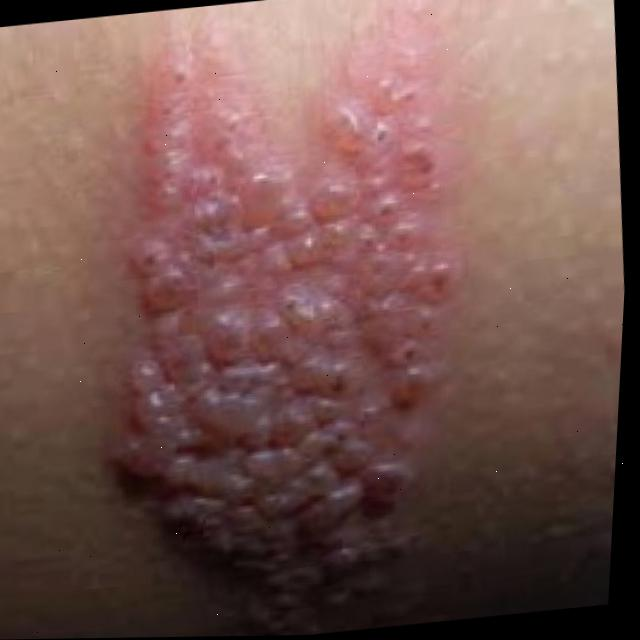Shingles: (68, 30, 499, 639)
